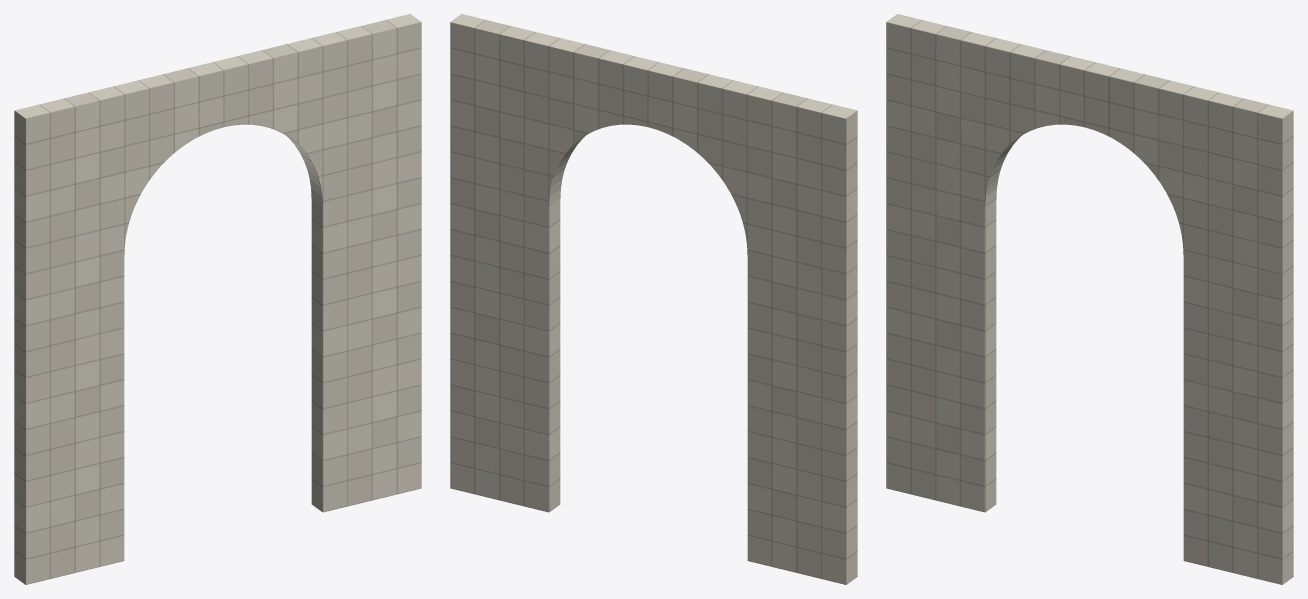
File: MOD_08_Archway.glb
3 views of the same model, side by side, from view 1: azimuth 30°, elevation 25°; view 2: azimuth 150°, elevation 25°; view 3: azimuth 330°, elevation 25° (orthographic).
Visible parts, largest first — view 1: MOD_08_Archway_Export; view 2: MOD_08_Archway_Export; view 3: MOD_08_Archway_Export.
Boxes of the visible parts, x1,y1,x2,y2 form: MOD_08_Archway_Export: (14,14,421,584); MOD_08_Archway_Export: (450,14,857,584); MOD_08_Archway_Export: (886,14,1293,584).
Bounding box in the file's own units: 4 × 4.5 × 0.2.
Materials: 1 (1 with a texture image).
